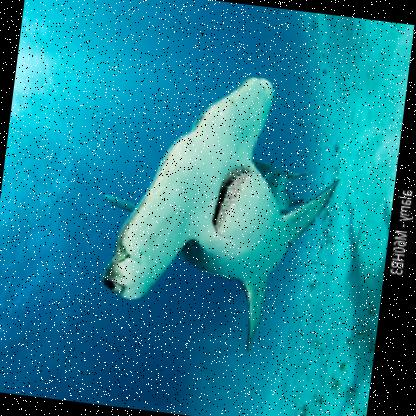hammerhead_Shark: (65, 43, 353, 368)
